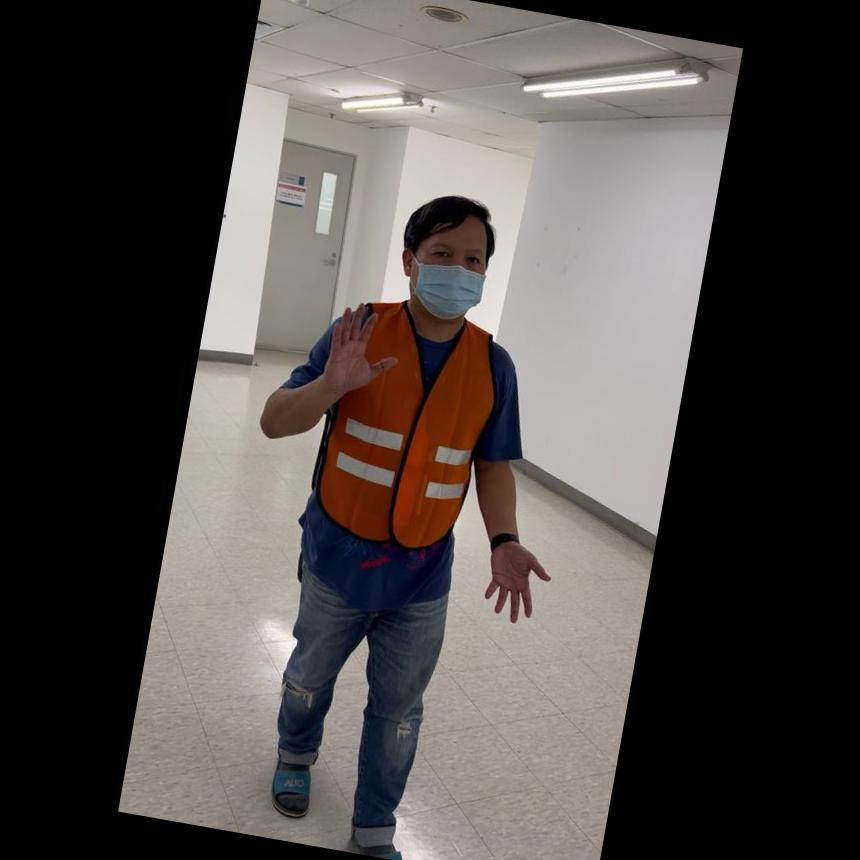No-gloves: (311, 292, 400, 402), (472, 532, 556, 625)
